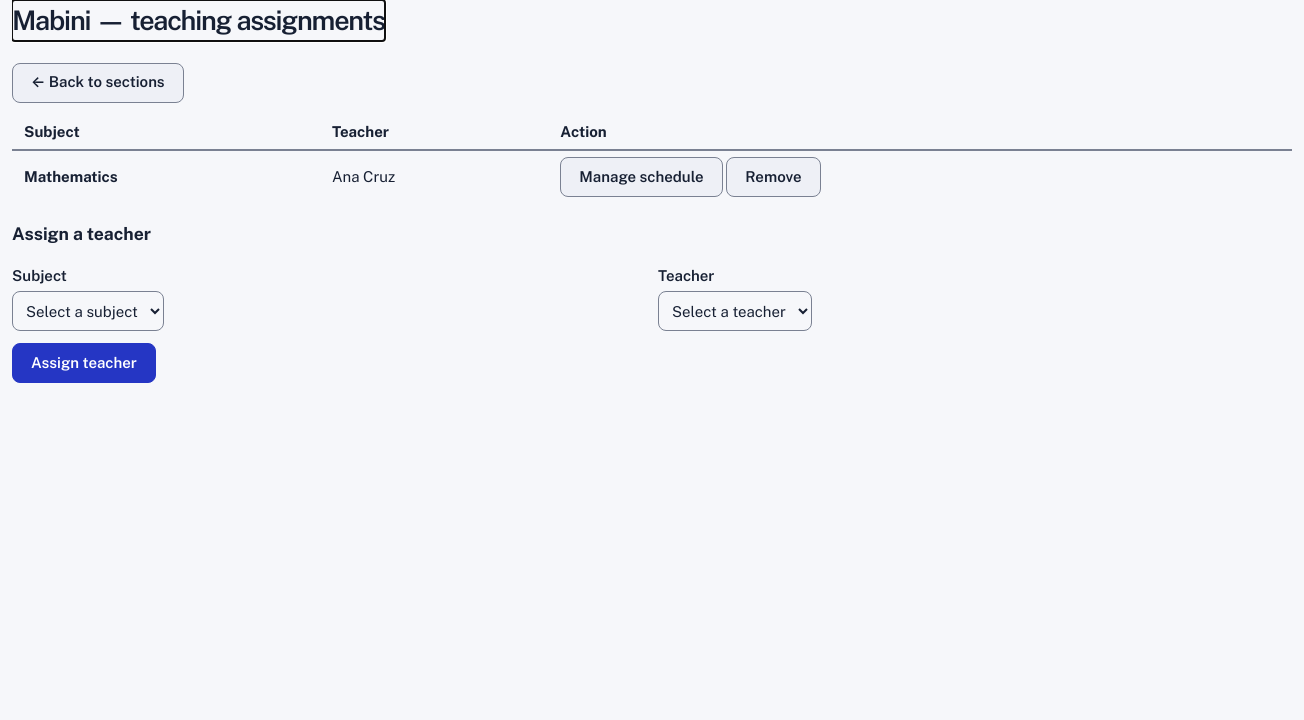
Test: TeachingAssignmentsScreen › removes an assignment
The image size is (1304, 720).
Expected: the column heading "Mathematics" is shown, [12,150,320,203]
Click the button with aria-label "Remove Ana Cruz from Mathematics" at point(773, 177), box [726,157,821,197]
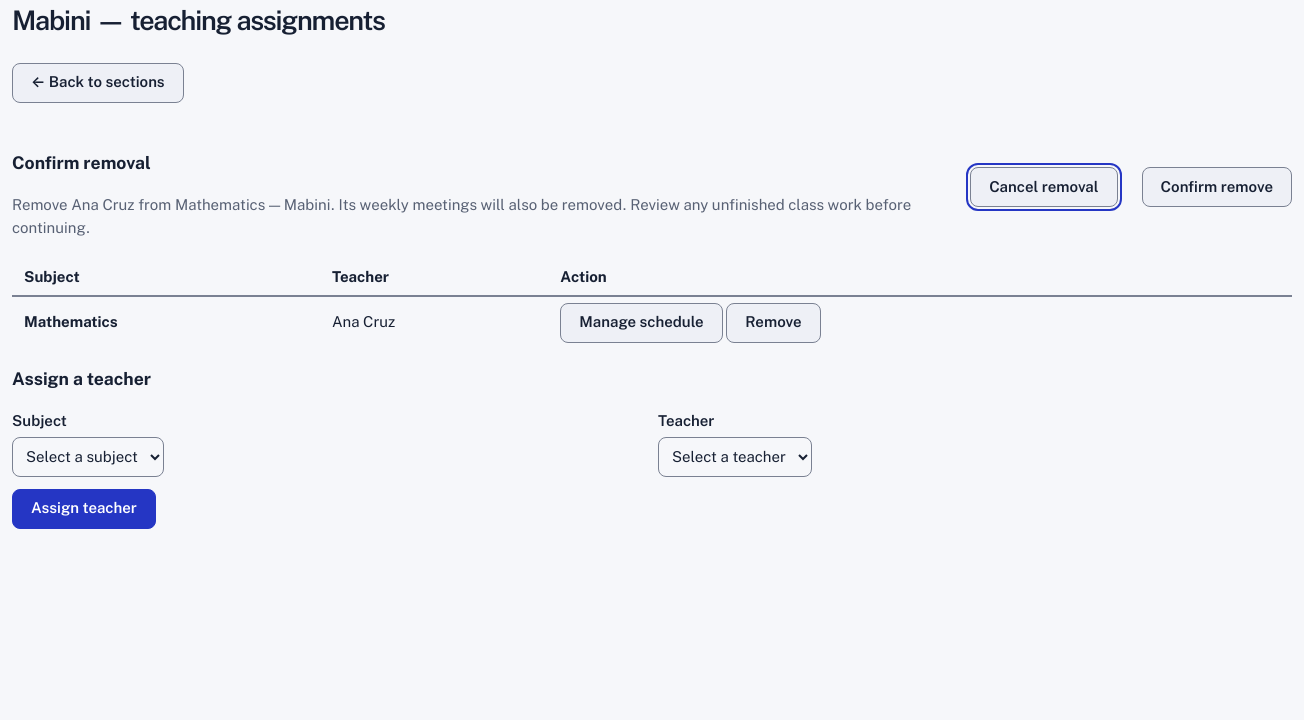
Click the button "Confirm remove" at point(1217, 187), box [1142,167,1292,207]
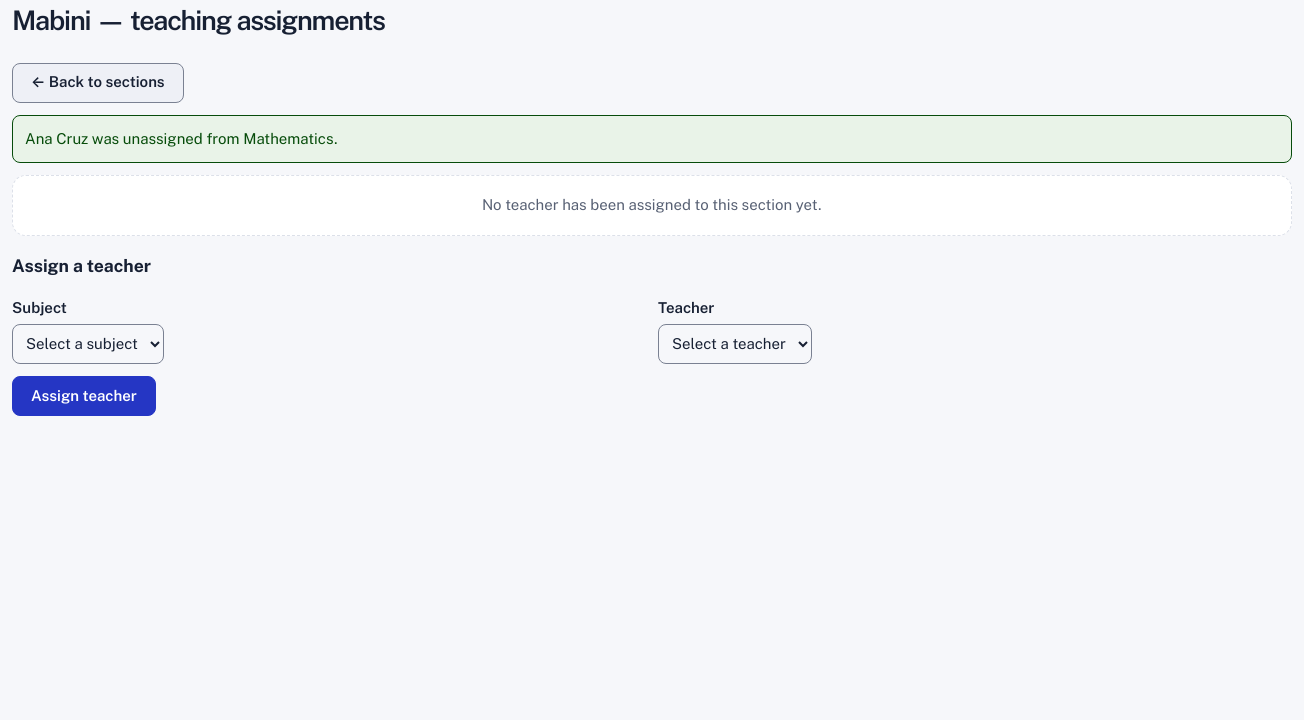
Now the text "No teacher has been assigned to this section yet." is shown, box [12,175,1292,236]
